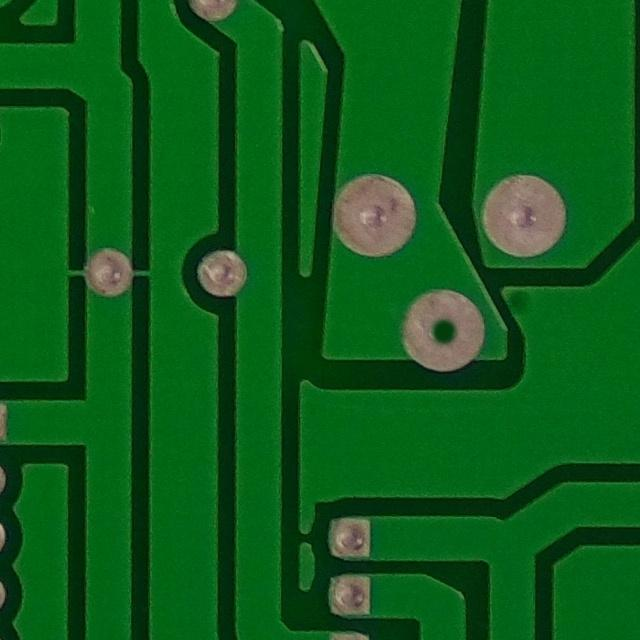missing_hole: (410, 286, 486, 377)
